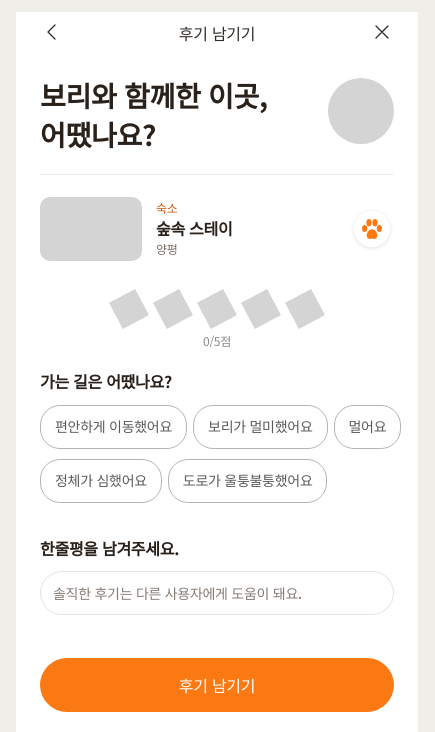
M04 후기 › 평점이 없으면 제출하지 않는다
Click the button "후기 남기기": [217, 685] box 40,658 -> 394,712
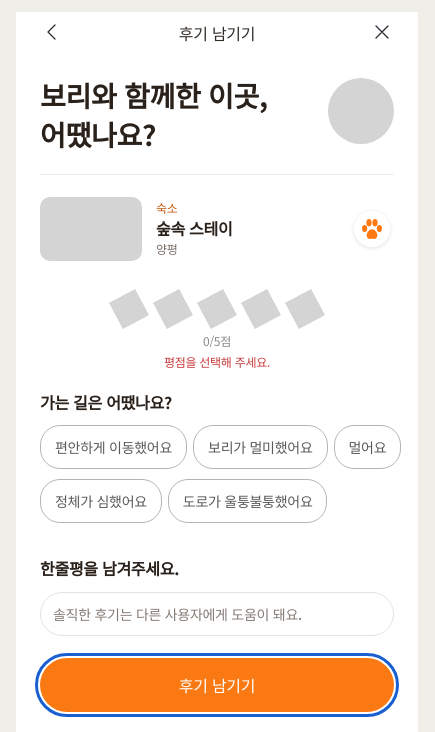
Result: the message reads "평점을 선택해 주세요." at 164,353 -> 270,370
